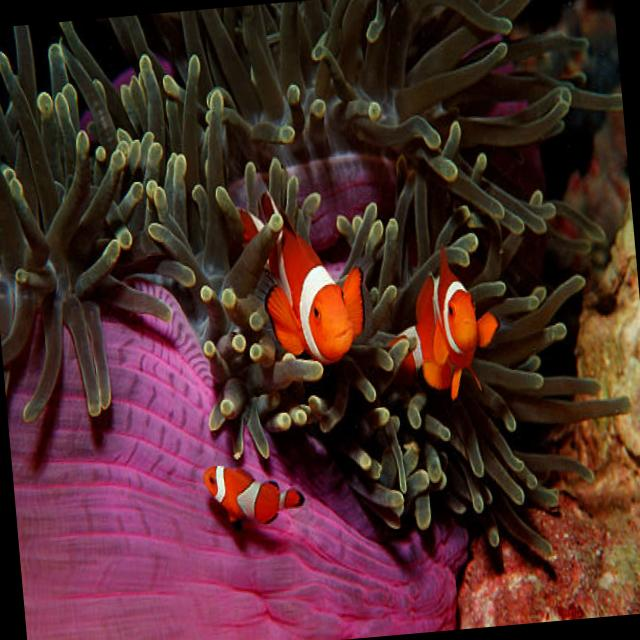ClownFish: (227, 171, 370, 386), (380, 222, 504, 394), (202, 454, 308, 534)
